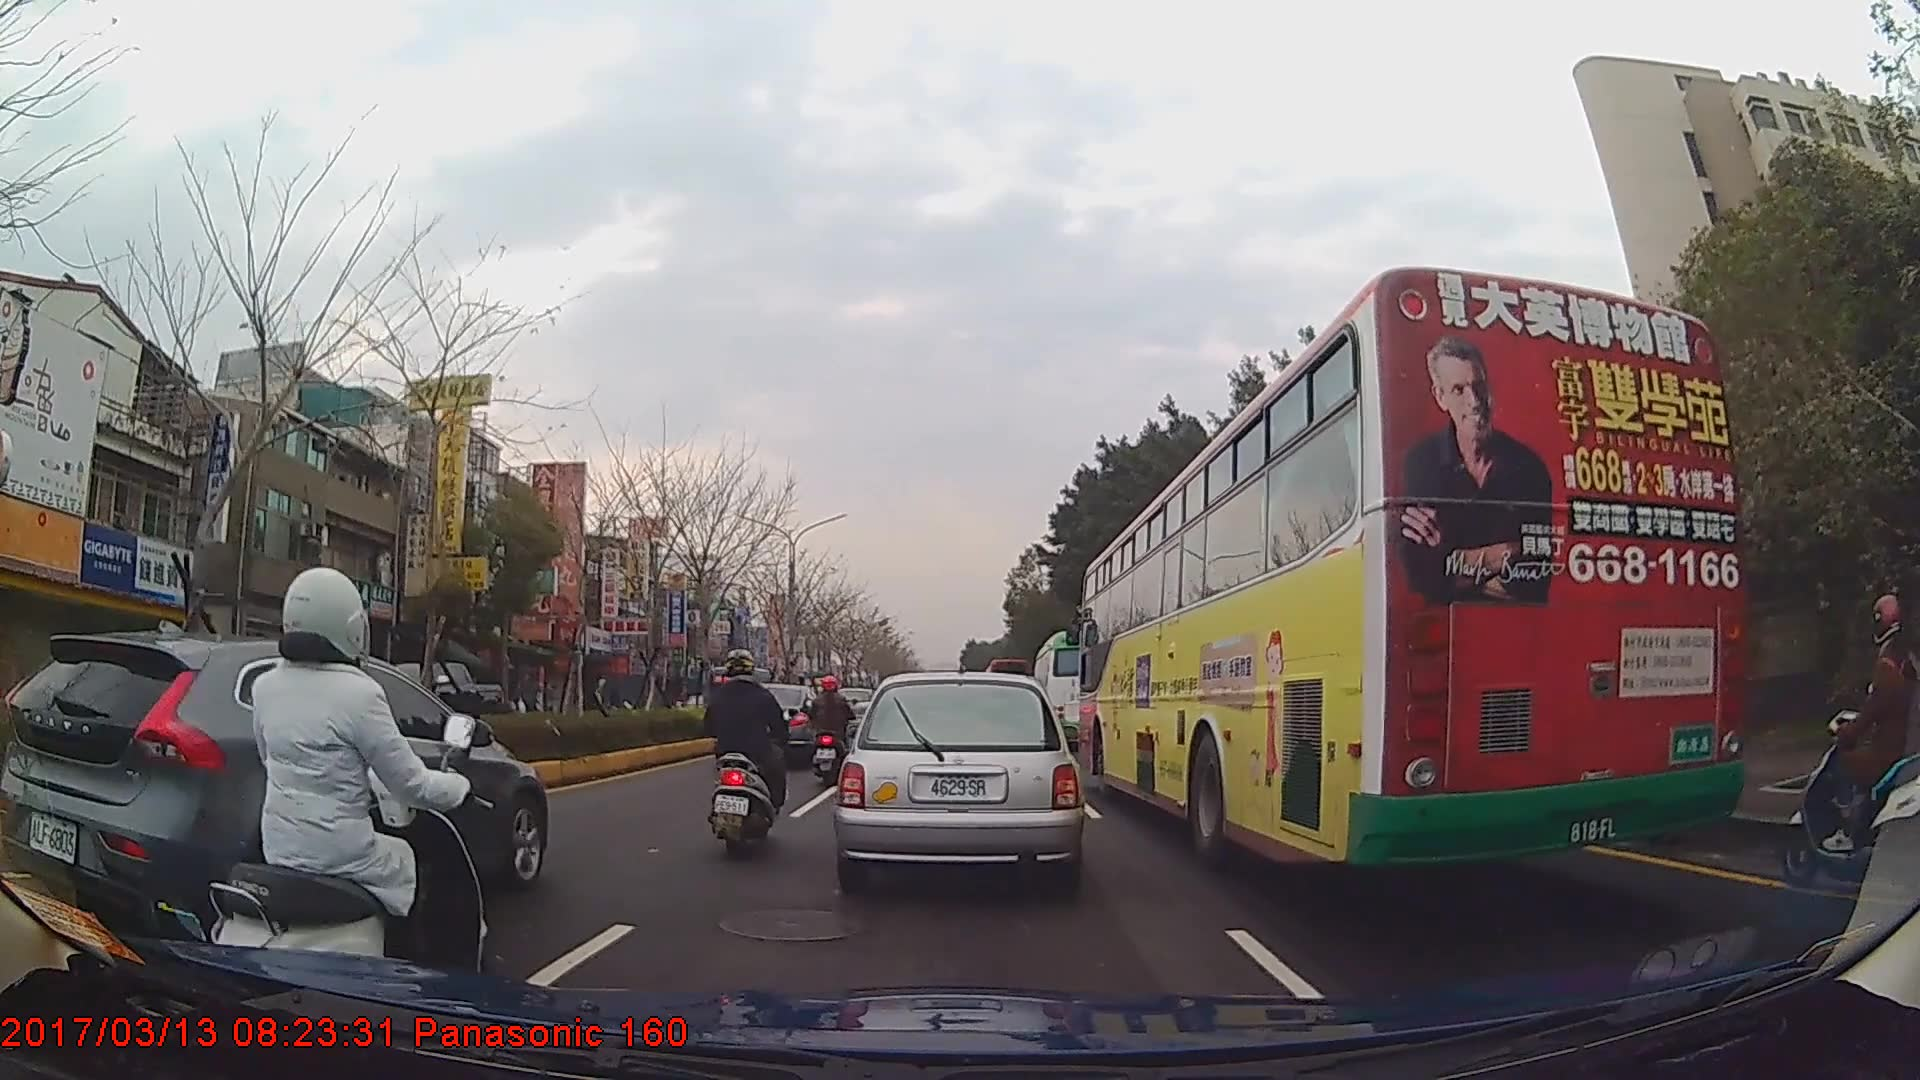rider: (202, 561, 493, 1014), (1780, 595, 1920, 885), (701, 649, 791, 856), (806, 677, 856, 788)
vehicle: (1079, 262, 1747, 876), (0, 627, 548, 937), (834, 671, 1083, 889), (365, 659, 505, 739), (1030, 630, 1116, 750), (723, 684, 833, 768)
